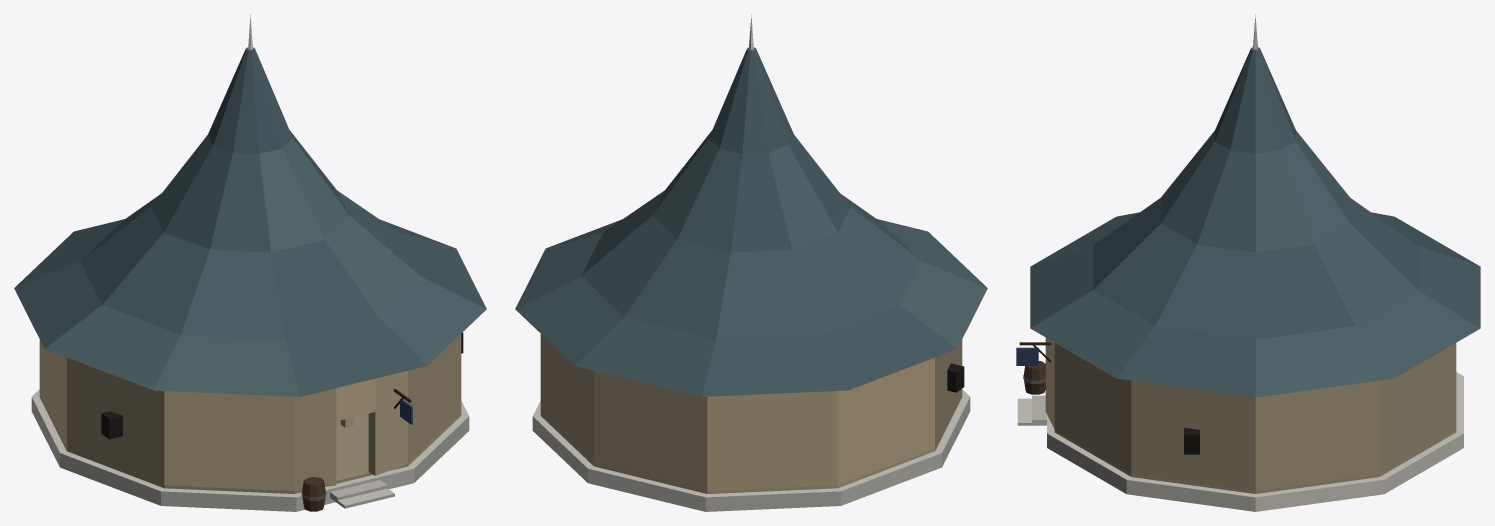
The model's file is walk_veiled_tavern.glb.
The picture shows the model from 3 angles, left to right: view 1: azimuth 30°, elevation 25°; view 2: azimuth 150°, elevation 25°; view 3: azimuth 270°, elevation 25°; orthographic projection.
Parts seen in each view (by area): view 1: walk_veiled_tavern_roof, walk_veiled_tavern; view 2: walk_veiled_tavern_roof, walk_veiled_tavern; view 3: walk_veiled_tavern_roof, walk_veiled_tavern.
Part boxes in pixels (x1,y1,x2,y2): walk_veiled_tavern_roof: (14, 14, 486, 396); walk_veiled_tavern: (31, 332, 469, 511); walk_veiled_tavern_roof: (515, 14, 987, 396); walk_veiled_tavern: (532, 334, 970, 511); walk_veiled_tavern_roof: (1030, 14, 1480, 397); walk_veiled_tavern: (1016, 338, 1463, 511).
Size of what is drawn, in the model's own units: 14.8 by 13.98 by 14.51.
Materials: 2 (2 with a texture image).
